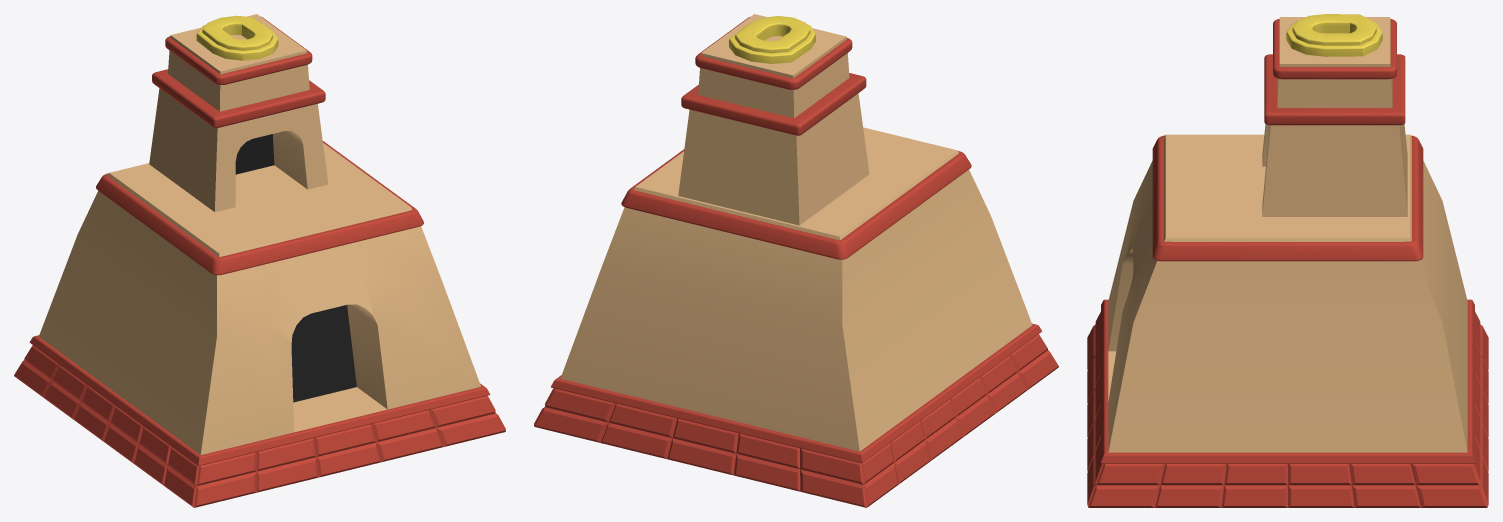
The model's file is furnace.fbx.
3 views of the same model, side by side, from view 1: azimuth 30°, elevation 25°; view 2: azimuth 150°, elevation 25°; view 3: azimuth 270°, elevation 25° (orthographic). The views are drawn at different scales.
Visible parts, largest first — view 1: Cube.021; view 2: Cube.021; view 3: Cube.021.
Part boxes in pixels (left/top/right/bottom): Cube.021: left=14, top=14, right=505, bottom=507; Cube.021: left=534, top=14, right=1058, bottom=507; Cube.021: left=1087, top=14, right=1488, bottom=507.
Bounding box in the file's own units: 140 × 153 × 140.
Materials: 1 (1 with a texture image).
